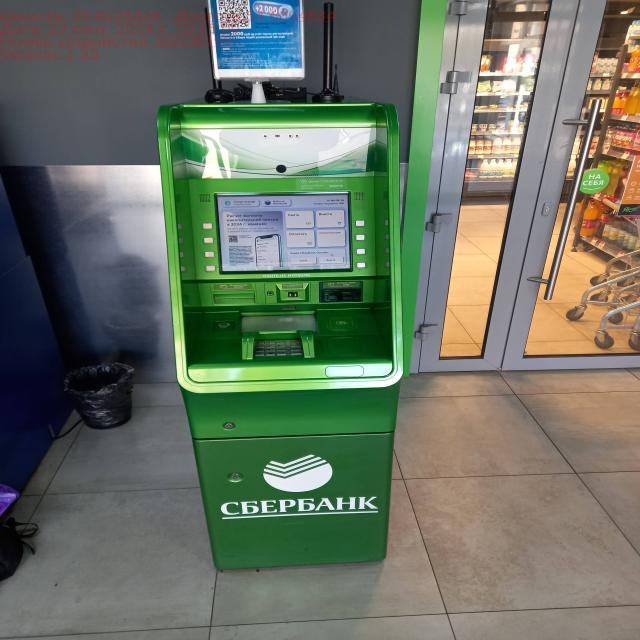bank: (152, 98, 409, 574)
